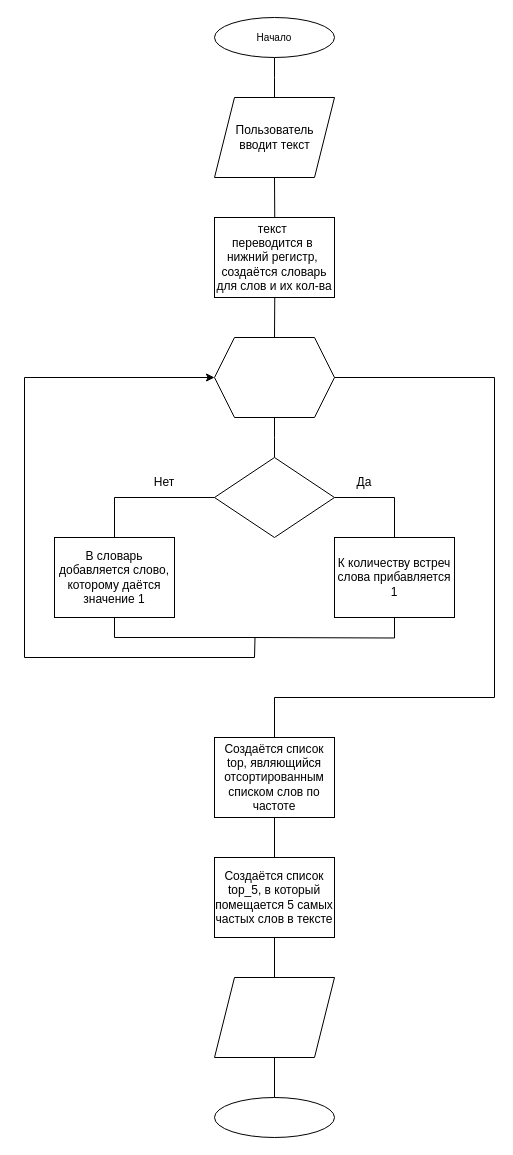
Image size: 513x1155. Some labels were removed from this diagram. Here are the shapes that lost their labels. From the top down, the centre of each, then its label:
point 274,377: Для каждого слова в тексте
point 274,497: Существует в словаре?
point 274,1017: Вывод top_5
point 274,1117: Конец
